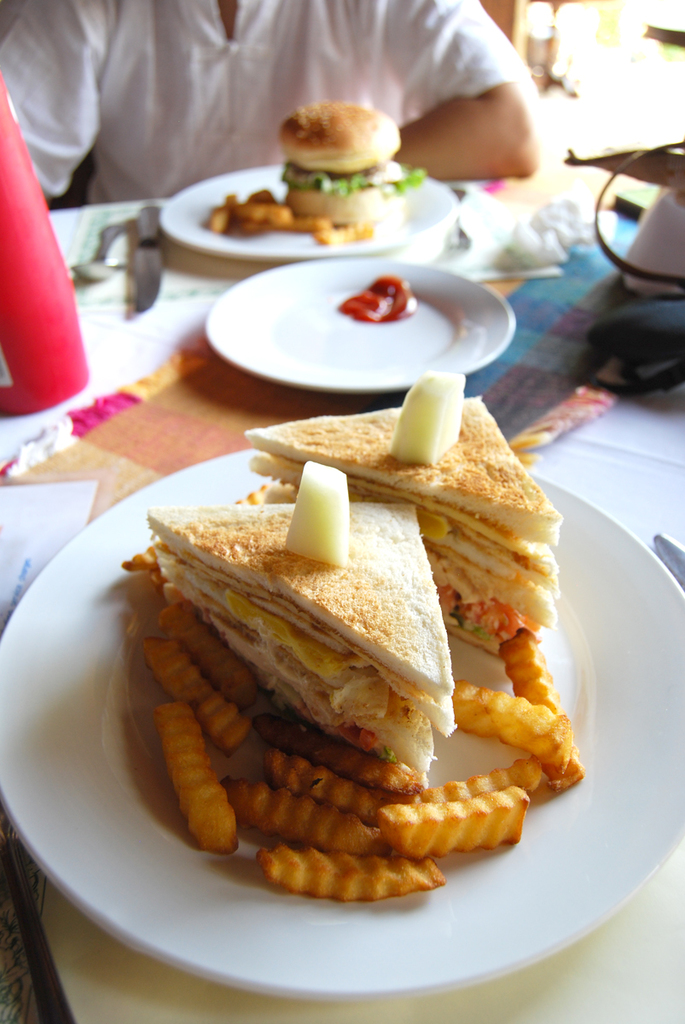French fries: (120, 569, 604, 913), (211, 190, 366, 241)
